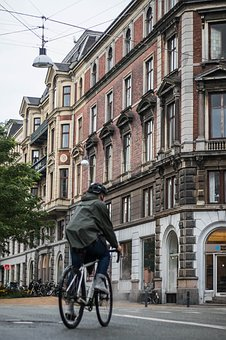bikerider: (56, 181, 123, 334)
